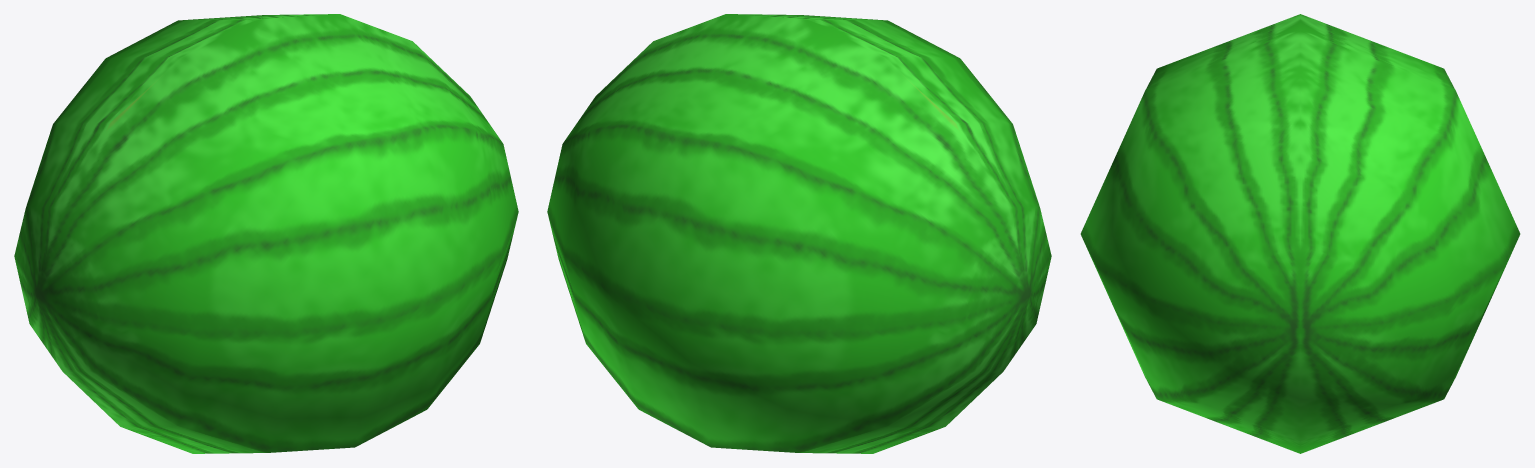
The model's file is Watermelon.fbx.
The picture shows the model from 3 angles, left to right: view 1: azimuth 30°, elevation 25°; view 2: azimuth 150°, elevation 25°; view 3: azimuth 270°, elevation 25°; orthographic projection. The views are drawn at different scales.
Visible parts, largest first — view 1: Watermelon; view 2: Watermelon; view 3: Watermelon.
Boxes of the visible parts, x1=… form: Watermelon: x1=14, y1=14, x2=518, y2=453; Watermelon: x1=547, y1=14, x2=1051, y2=453; Watermelon: x1=1080, y1=14, x2=1520, y2=453.
Size of the model in its own units: 45.79 by 41.29 by 41.3.
